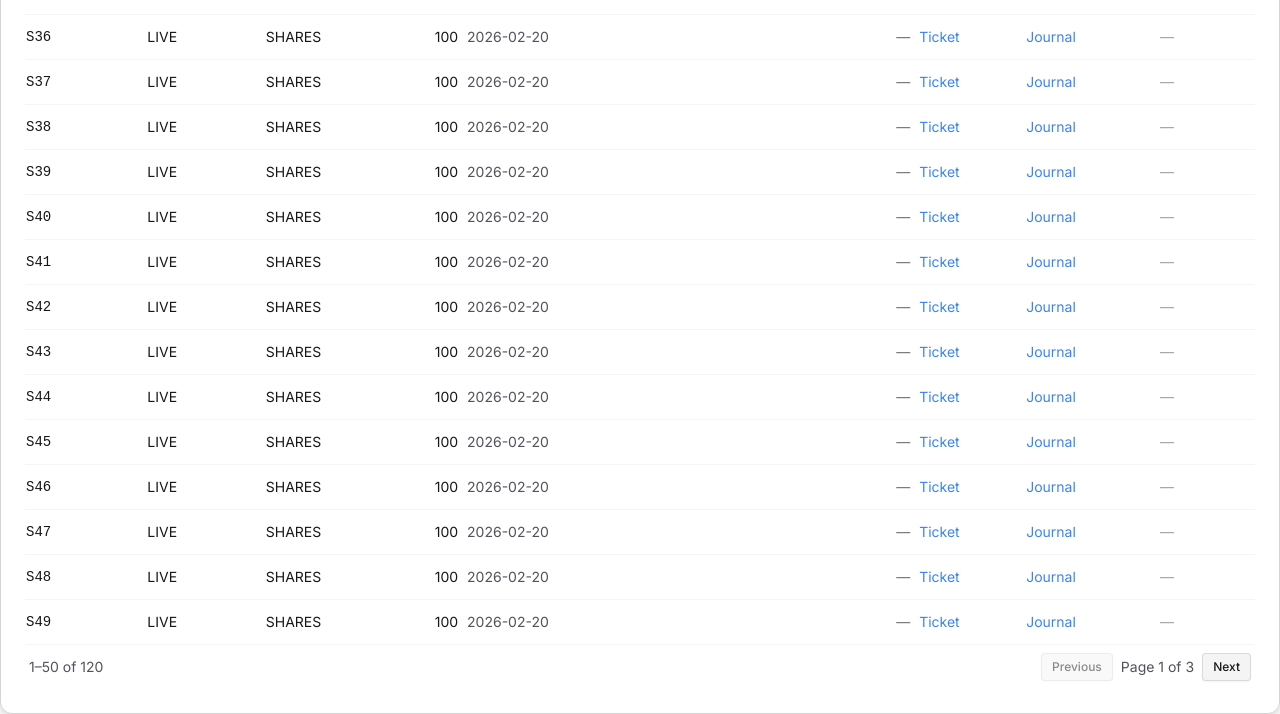
it: PositionsPage › R34.0: paginates large position sets (bounded rows + controls)
(page scrolled)
Expected: the element with test id "positions-pagination" is shown, x1=25 y1=644 x2=1255 y2=689
Expected: the text with test id "positions-pagination-page" reads "Page 1 of 3", x1=1121 y1=657 x2=1194 y2=677
What coordinates should you click on to do the following:
click the button with test id "positions-pagination-next"
I would click on:
 (1227, 667)
Its box is x1=1202 y1=653 x2=1251 y2=681.
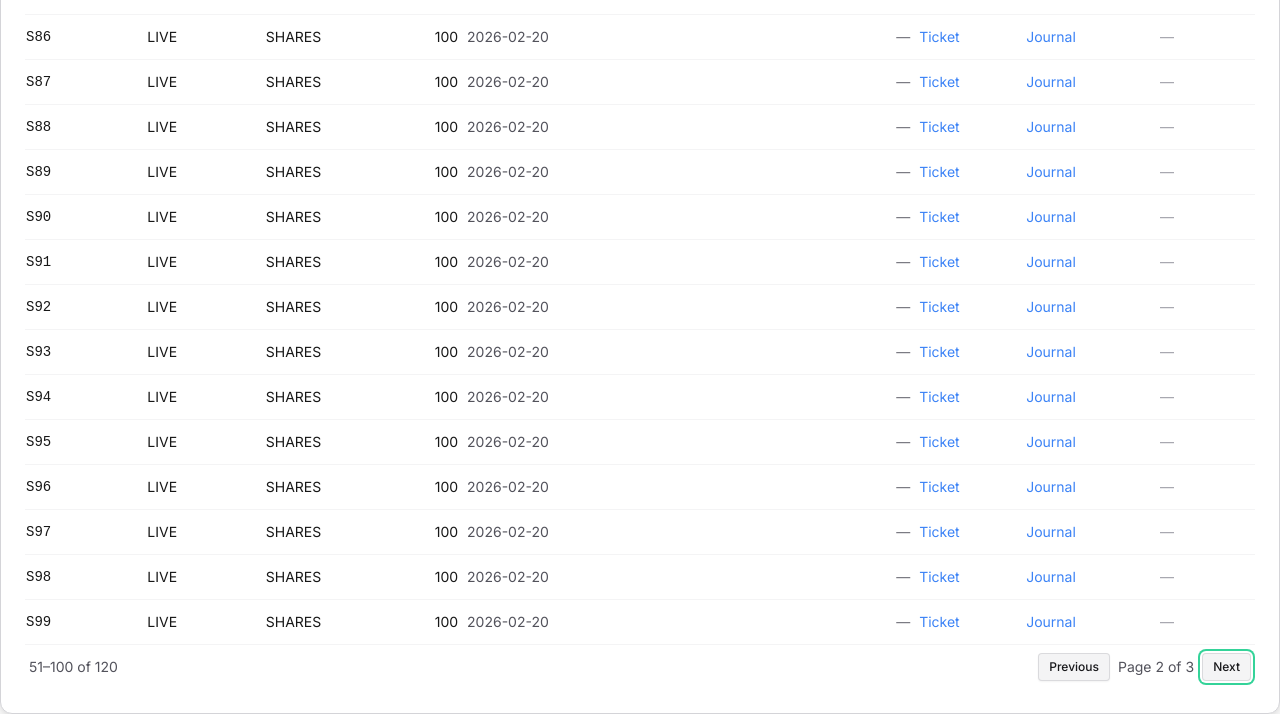
Now the text with test id "positions-pagination-page" reads "Page 2 of 3", box x1=1118 y1=657 x2=1194 y2=677
